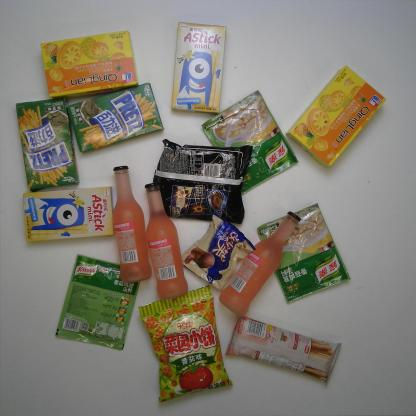Alcohol: (220, 208, 304, 315), (141, 178, 190, 300), (110, 160, 152, 285)
Dessert: (284, 63, 388, 169), (226, 314, 342, 385), (38, 26, 142, 100), (65, 82, 164, 153), (176, 210, 257, 292), (168, 17, 232, 115), (23, 178, 118, 244), (16, 96, 80, 192)
Instant Noodles: (151, 134, 256, 226)
Puffed Food: (137, 283, 234, 403)
Seasoner: (204, 86, 298, 197), (254, 203, 350, 305), (53, 251, 146, 352)
